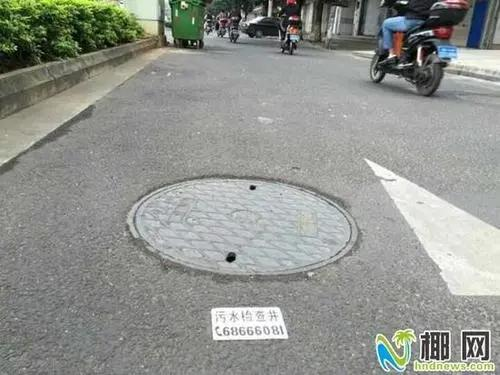wellcover: (128, 169, 365, 290)
